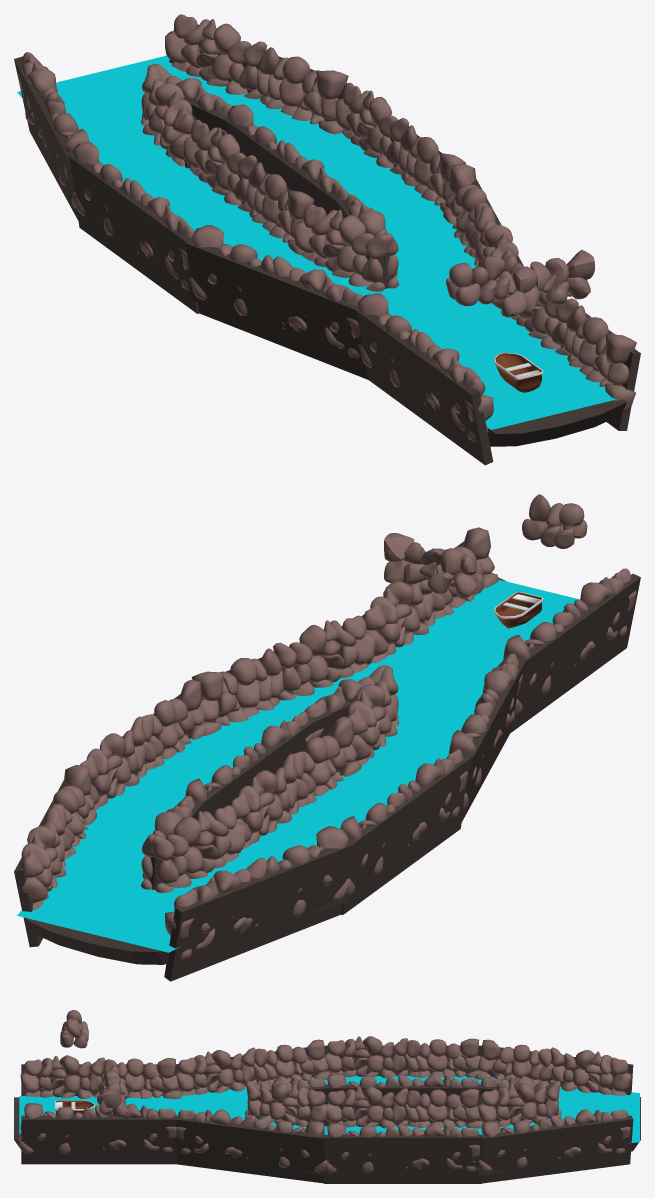
The model's file is BoatAssets.fbx.
3 views of the same model, one above another, from view 1: azimuth 30°, elevation 25°; view 2: azimuth 150°, elevation 25°; view 3: azimuth 270°, elevation 25° (orthographic). The views are drawn at different scales.
Parts seen in each view (by area): view 1: Path3, Path2, Path4, Path1, BarrierWide, BarrierSmall, Boat; view 2: Path4, Path3, Path2, Path1, BarrierWide, BarrierSmall, Boat; view 3: Path3, Path4, Path2, Path1, BarrierWide, BarrierSmall, Boat.
Boxes of the visible parts, left/top/right/bottom form: Path3: left=68, top=82, right=465, bottom=313; Path2: left=186, top=163, right=523, bottom=379; Path4: left=14, top=14, right=348, bottom=220; Path1: left=355, top=263, right=640, bottom=465; BarrierWide: left=491, top=249, right=594, bottom=317; BarrierSmall: left=446, top=256, right=510, bottom=305; Boat: left=494, top=352, right=543, bottom=392; Path4: left=14, top=765, right=354, bottom=981; Path3: left=80, top=679, right=471, bottom=915; Path2: left=191, top=615, right=525, bottom=821; Path1: left=361, top=527, right=640, bottom=732; BarrierWide: left=384, top=533, right=483, bottom=599; BarrierSmall: left=522, top=494, right=587, bottom=548; Boat: left=494, top=591, right=543, bottom=628; Path3: left=324, top=1036, right=483, bottom=1183; Path4: left=471, top=1039, right=640, bottom=1183; Path2: left=175, top=1039, right=336, bottom=1183; Path1: left=14, top=1055, right=181, bottom=1164; BarrierWide: left=97, top=1067, right=128, bottom=1117; BarrierSmall: left=60, top=1010, right=88, bottom=1048; Boat: left=55, top=1100, right=95, bottom=1114.
Size of the model in its own units: 2193 by 1232 by 6207.
